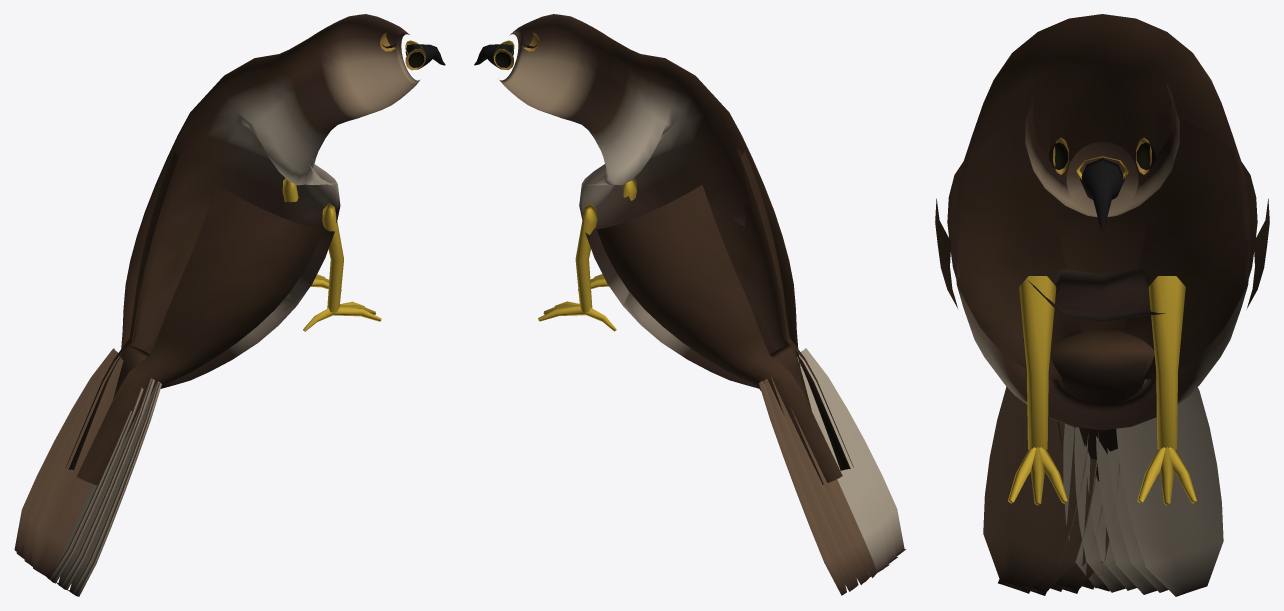
The model's file is SM_Bird_buzzard_perch.glb.
3 views of the same model, side by side, from view 1: azimuth 30°, elevation 25°; view 2: azimuth 150°, elevation 25°; view 3: azimuth 270°, elevation 25° (orthographic). The views are drawn at different scales.
Parts seen in each view (by area): view 1: SM_Bird_buzzard_perch; view 2: SM_Bird_buzzard_perch; view 3: SM_Bird_buzzard_perch.
Boxes of the visible parts, bbox=[...] form: SM_Bird_buzzard_perch: bbox=[14, 14, 445, 596]; SM_Bird_buzzard_perch: bbox=[474, 14, 906, 595]; SM_Bird_buzzard_perch: bbox=[935, 14, 1269, 596].
Bounding box in the file's own units: 0.3887 × 0.4427 × 0.1708.
